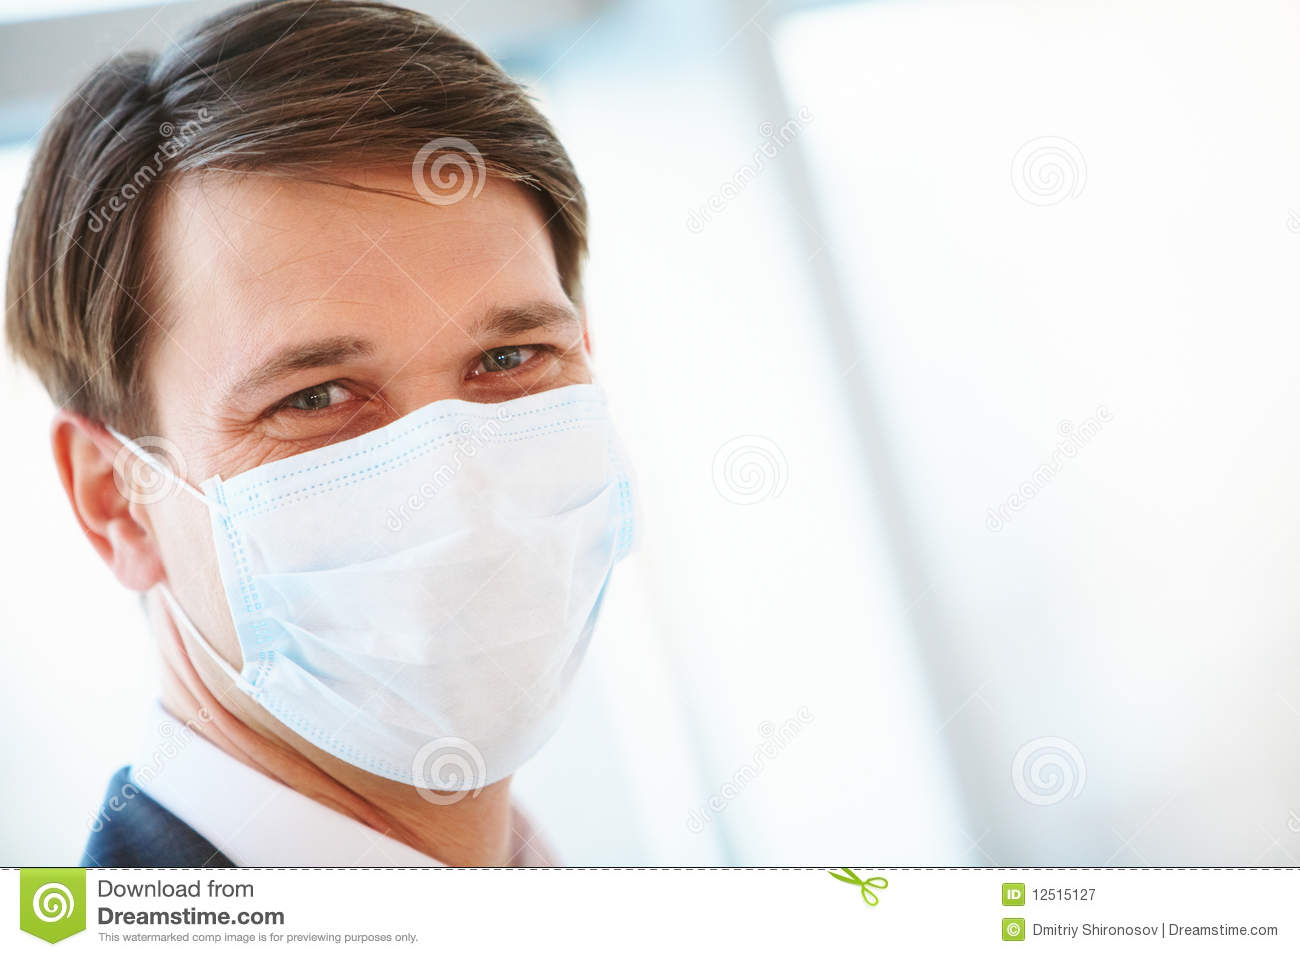mask: (218, 394, 631, 796)
